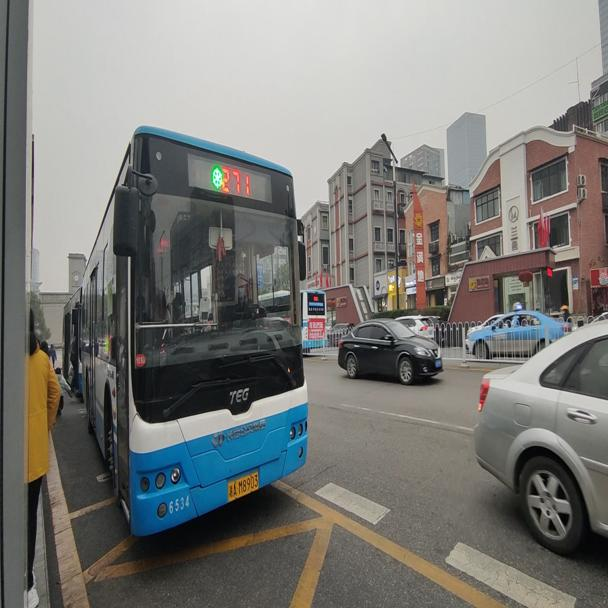bus: (78, 119, 311, 535), (302, 288, 327, 346)
screen: (220, 159, 251, 202)
